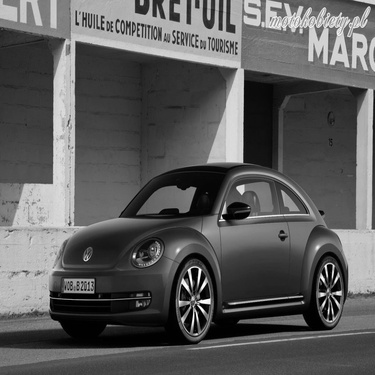car: (37, 154, 355, 346)
